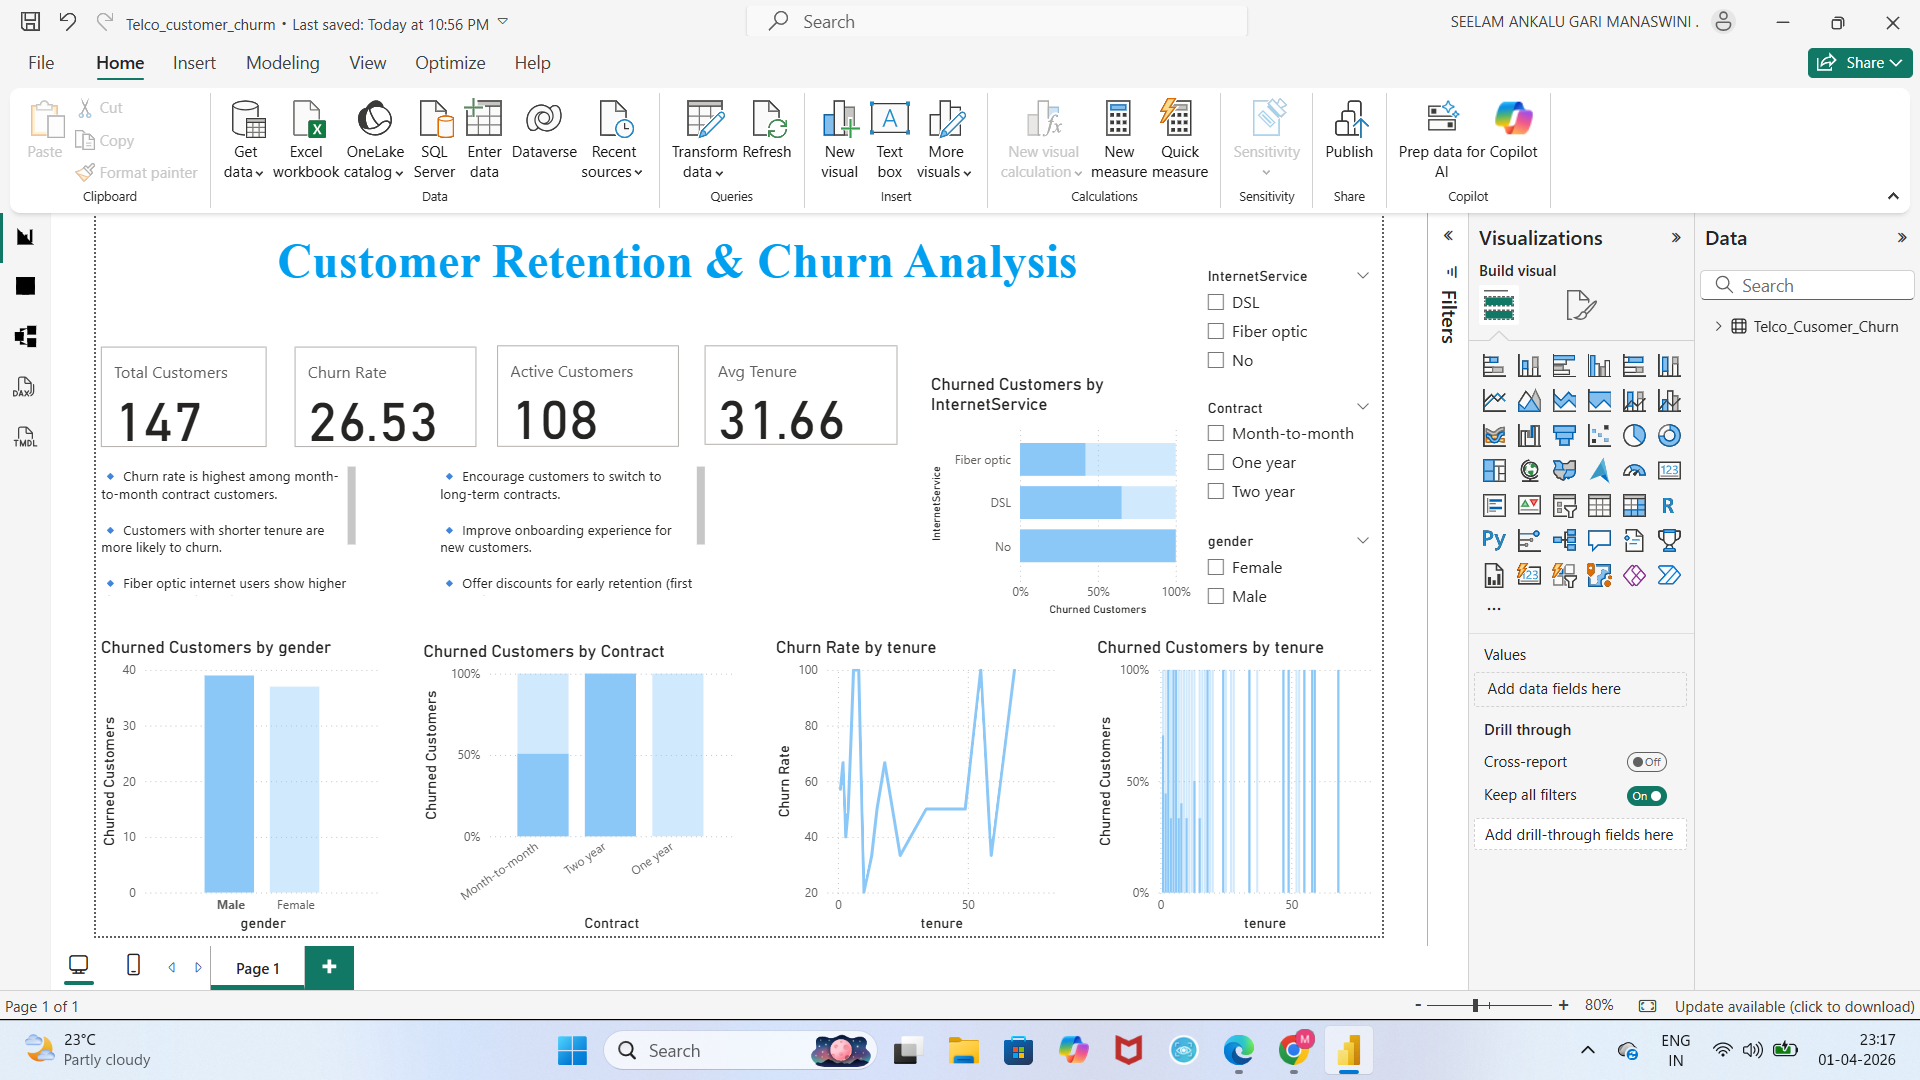

What the dashboard file says about the page in this screenshot:
{"tool":"powerbi","page":{"name":"Page 1","canvas":[1280,720],"ordinal":0},"visuals":[{"type":"lineChart","fields":{"Y":["Telco_Cusomer_Churn.Churn Rate"],"Category":["Telco_Cusomer_Churn.tenure"]},"box":[671.7,421.7,288.6,298.6],"z":0},{"type":"hundredPercentStackedColumnChart","fields":{"Category":["Telco_Cusomer_Churn.Contract"],"Y":["Telco_Cusomer_Churn.Churned Customers"]},"box":[320.9,425.4,318.5,294.8],"z":1000},{"type":"hundredPercentStackedBarChart","fields":{"Category":["Telco_Cusomer_Churn.InternetService"],"Y":["Telco_Cusomer_Churn.Churned Customers"]},"box":[826,160.5,268.7,245.1],"z":2000},{"type":"clusteredColumnChart","fields":{"Category":["Telco_Cusomer_Churn.gender"],"Y":["Telco_Cusomer_Churn.Churned Customers"]},"box":[0,421.7,288.6,298.6],"z":3000},{"type":"hundredPercentStackedColumnChart","fields":{"Y":["Telco_Cusomer_Churn.Churned Customers"],"Category":["Telco_Cusomer_Churn.tenure"]},"box":[991.4,421.7,288.6,298.6],"z":4000},{"type":"cardVisual","fields":{"Data":["Telco_Cusomer_Churn.Total Customers"]},"box":[0,128.1,175.4,110.7],"z":5000},{"type":"cardVisual","fields":{"Data":["Telco_Cusomer_Churn.Churn Rate"]},"box":[192.8,128.1,191.6,110.7],"z":6000},{"type":"cardVisual","fields":{"Data":["Telco_Cusomer_Churn.Active Customers"]},"box":[394.3,126.9,191.6,112],"z":7000},{"type":"cardVisual","fields":{"Data":["Telco_Cusomer_Churn.Avg Tenure"]},"box":[600.8,126.9,202.8,109.5],"z":8000},{"type":"slicer","fields":{"Values":["Telco_Cusomer_Churn.Contract"]},"box":[1093.4,180.4,186.6,121.9],"z":9000},{"type":"slicer","fields":{"Values":["Telco_Cusomer_Churn.gender"]},"box":[1093.4,313.5,186.6,92.1],"z":10000},{"type":"slicer","fields":{"Values":["Telco_Cusomer_Churn.InternetService"]},"box":[1093.4,49.8,186.6,121.9],"z":11000},{"type":"textbox","box":[0,247.5,263.7,138.1],"z":12000},{"type":"textbox","box":[175.4,16.2,872,67.2],"z":13000},{"type":"textbox","box":[337.1,247.5,273.7,138.1],"z":14000}]}

Visuals, with their boxes on the page's 1280x720 design canvas (x1, y1, x2, y2). These are canvas units, not pixel positions in the 1920x1080 screenshot, which may show the page scaled, cropped or inside an application window:
lineChart - Telco_Cusomer_Churn.Churn Rate x Telco_Cusomer_Churn.tenure: left=672, top=422, right=960, bottom=720
hundredPercentStackedColumnChart - Telco_Cusomer_Churn.Contract x Telco_Cusomer_Churn.Churned Customers: left=321, top=425, right=639, bottom=720
hundredPercentStackedBarChart - Telco_Cusomer_Churn.InternetService x Telco_Cusomer_Churn.Churned Customers: left=826, top=160, right=1095, bottom=406
clusteredColumnChart - Telco_Cusomer_Churn.gender x Telco_Cusomer_Churn.Churned Customers: left=0, top=422, right=289, bottom=720
hundredPercentStackedColumnChart - Telco_Cusomer_Churn.Churned Customers x Telco_Cusomer_Churn.tenure: left=991, top=422, right=1280, bottom=720
cardVisual - Telco_Cusomer_Churn.Total Customers: left=0, top=128, right=175, bottom=239
cardVisual - Telco_Cusomer_Churn.Churn Rate: left=193, top=128, right=384, bottom=239
cardVisual - Telco_Cusomer_Churn.Active Customers: left=394, top=127, right=586, bottom=239
cardVisual - Telco_Cusomer_Churn.Avg Tenure: left=601, top=127, right=804, bottom=236
slicer - Telco_Cusomer_Churn.Contract: left=1093, top=180, right=1280, bottom=302
slicer - Telco_Cusomer_Churn.gender: left=1093, top=314, right=1280, bottom=406
slicer - Telco_Cusomer_Churn.InternetService: left=1093, top=50, right=1280, bottom=172
textbox: left=0, top=248, right=264, bottom=386
textbox: left=175, top=16, right=1047, bottom=83
textbox: left=337, top=248, right=611, bottom=386
